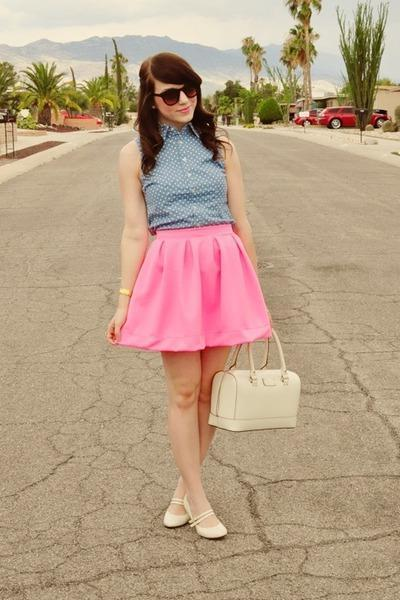short sleeve shirt: (137, 118, 239, 243)
skirt: (111, 217, 278, 354)
